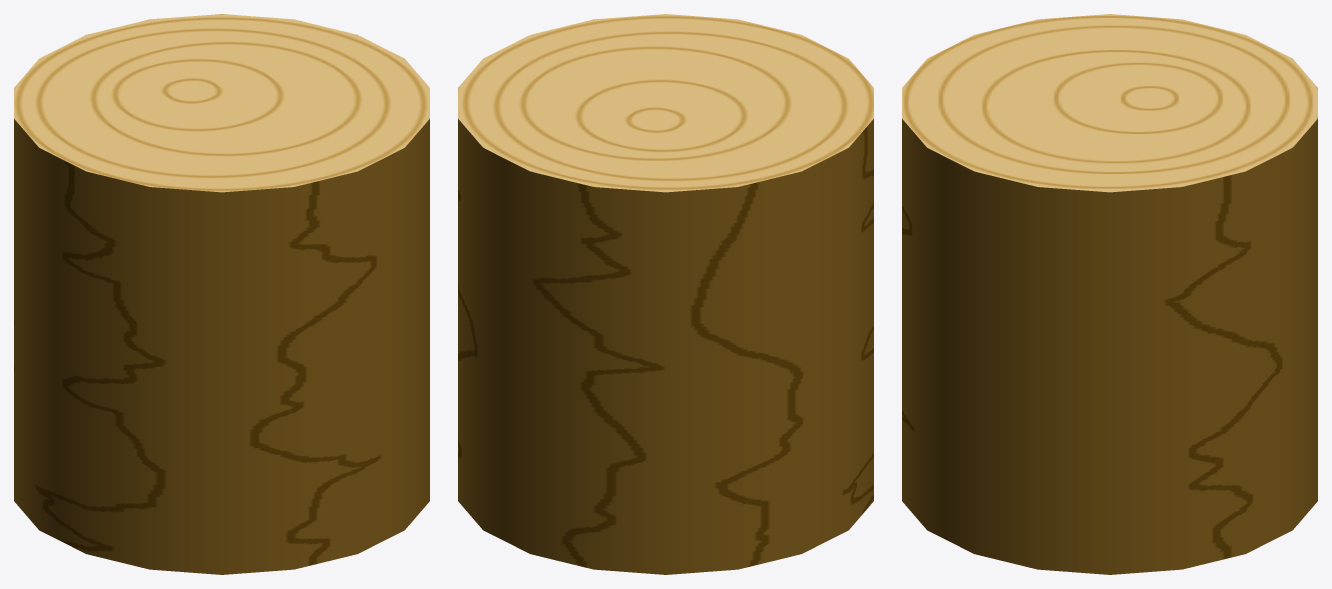
The model's file is Log.FBX.
The picture shows the model from 3 angles, left to right: view 1: azimuth 30°, elevation 25°; view 2: azimuth 150°, elevation 25°; view 3: azimuth 270°, elevation 25°; orthographic projection.
Visible parts, largest first — view 1: Cylinder001; view 2: Cylinder001; view 3: Cylinder001.
Part boxes in pixels (left/top/right/bottom): Cylinder001: left=14, top=14, right=429, bottom=574; Cylinder001: left=458, top=14, right=873, bottom=574; Cylinder001: left=902, top=14, right=1317, bottom=574.
Size of the model in its own units: 50 by 49.24 by 50.
1 material, 1 textured.
